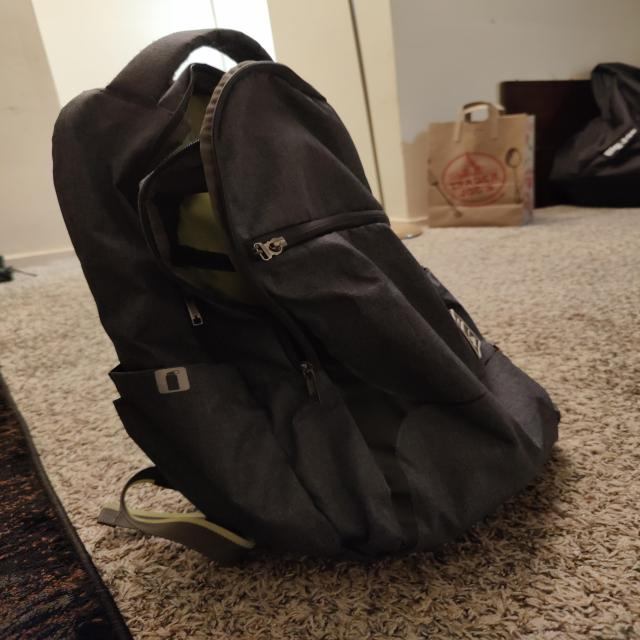bag: (137, 92, 493, 521)
